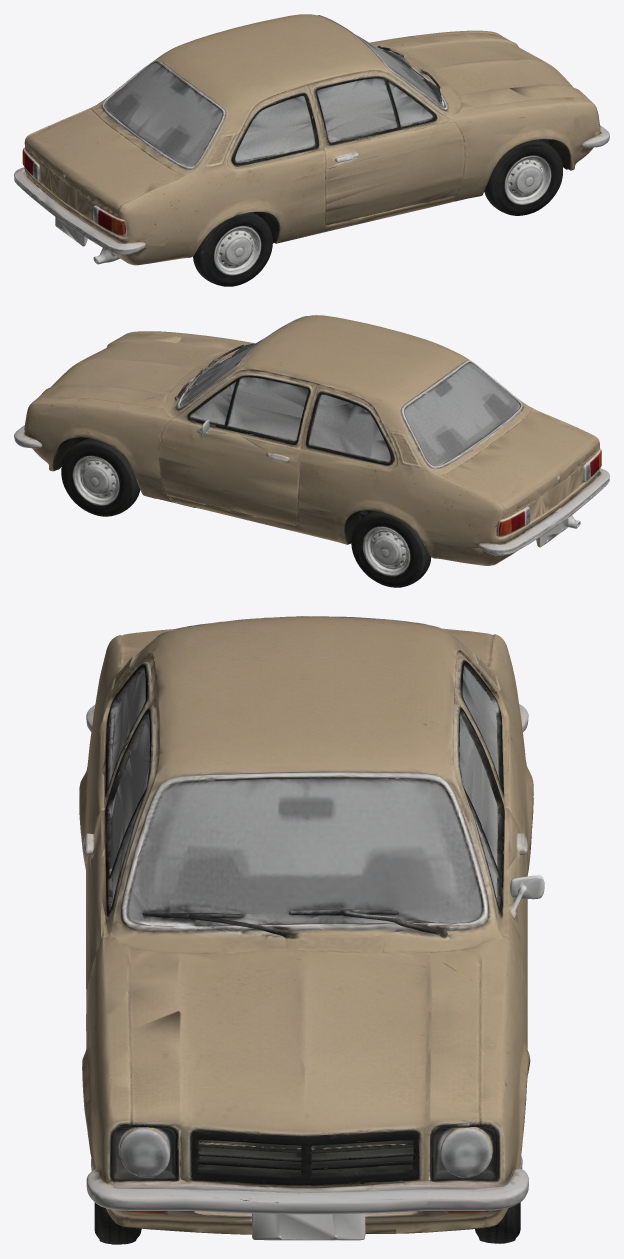
The model's file is seda-compacto-80__01a16982.glb.
The picture shows the model from 3 angles, top to bottom: view 1: azimuth 30°, elevation 25°; view 2: azimuth 150°, elevation 25°; view 3: azimuth 270°, elevation 25°; orthographic projection. The views are drawn at different scales.
Parts seen in each view (by area): view 1: seda-compacto-80__01a16982; view 2: seda-compacto-80__01a16982; view 3: seda-compacto-80__01a16982.
Part boxes in pixels (<box>): seda-compacto-80__01a16982: <box>14,14,609,286</box>; seda-compacto-80__01a16982: <box>14,315,609,587</box>; seda-compacto-80__01a16982: <box>79,616,544,1244</box>.
Size of the model in its own units: 4.2 by 1.42 by 1.67.
Materials: 1 (1 with a texture image).
